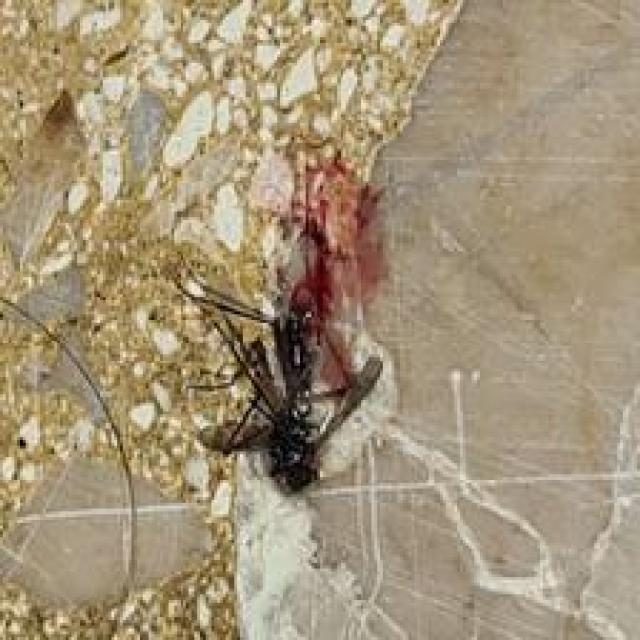Aedes albopictus: (174, 263, 386, 497)
